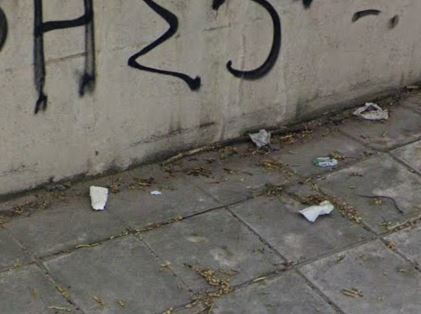trash: (295, 198, 338, 224), (83, 177, 113, 213), (350, 98, 389, 123), (242, 124, 275, 152), (308, 151, 346, 168)
